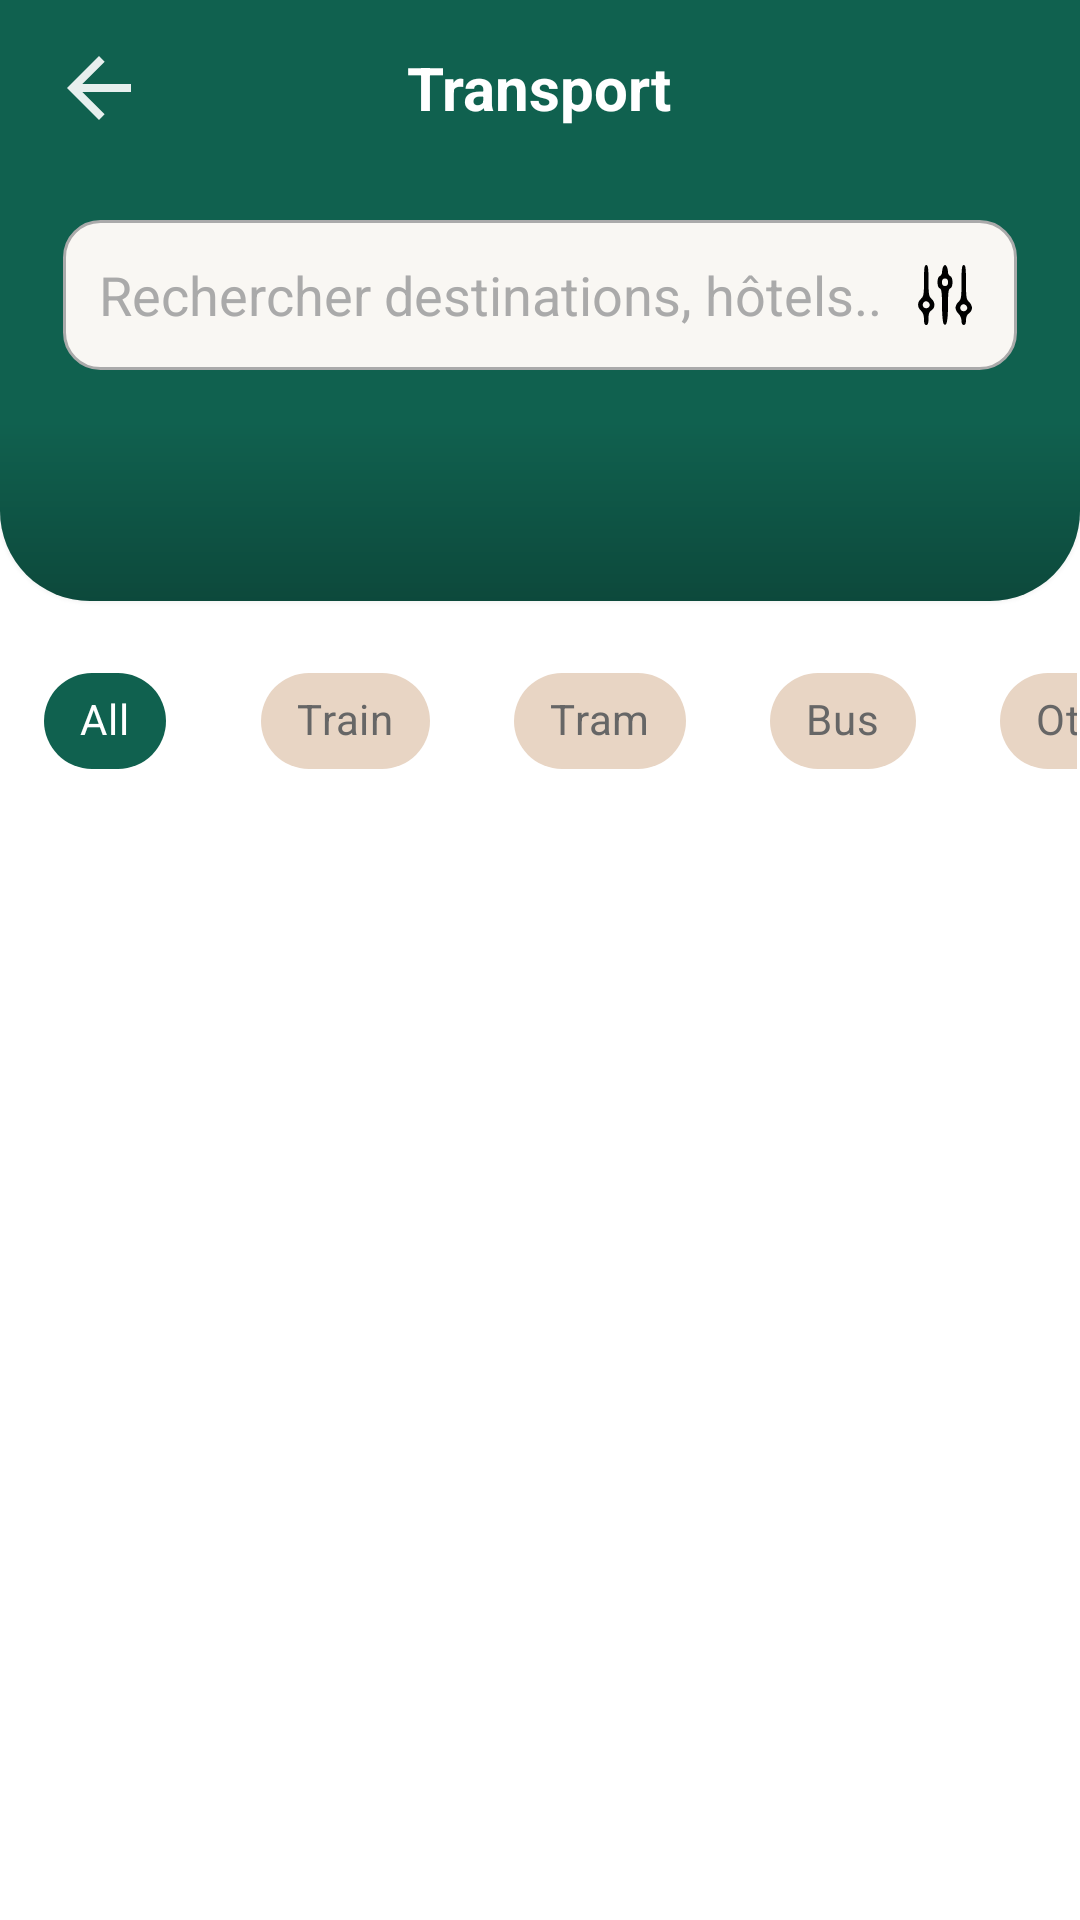

Icons on this 1080*1920 Android screen, each with its box as (x1, y1, x2, y2):
Back: (67, 56, 131, 120)
